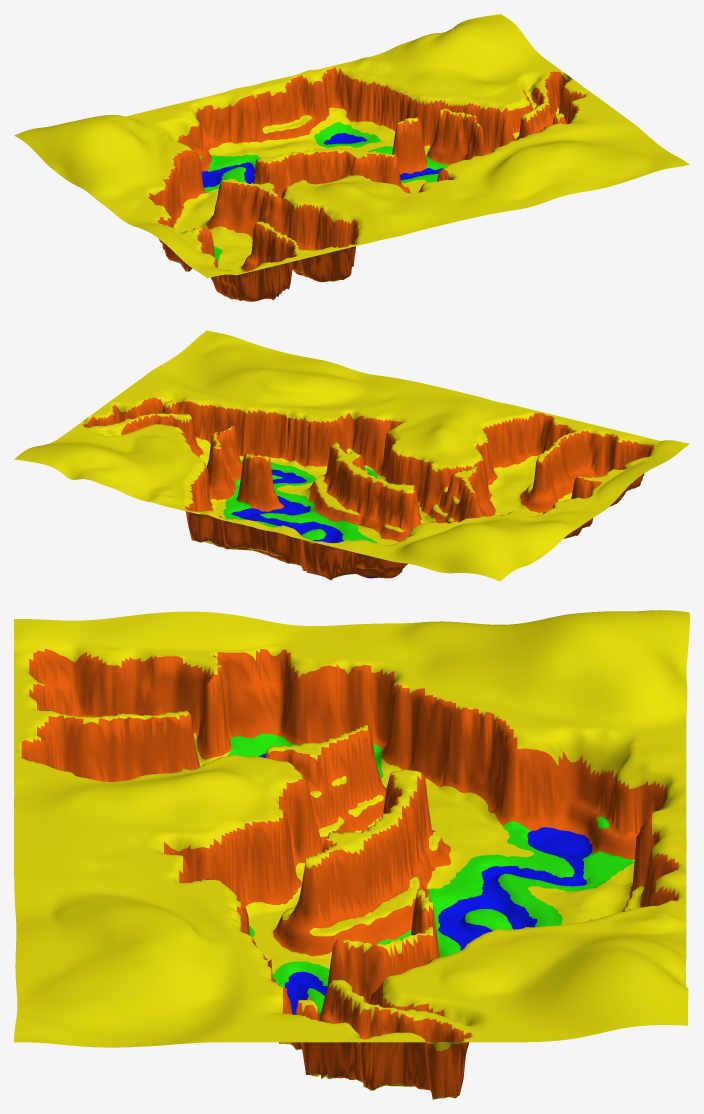
The model's file is MAPA3.fbx.
3 renders of one model, top to bottom at view 1: azimuth 30°, elevation 25°; view 2: azimuth 150°, elevation 25°; view 3: azimuth 270°, elevation 25°, orthographic. The views are drawn at different scales.
Visible parts, largest first — view 1: mapa_material; view 2: mapa_material; view 3: mapa_material.
Part boxes in pixels (left/top/right/bottom): mapa_material: left=14, top=14, right=689, bottom=301; mapa_material: left=14, top=330, right=689, bottom=581; mapa_material: left=14, top=610, right=689, bottom=1099.
Size of the model in its own units: 454 by 71.85 by 309.
